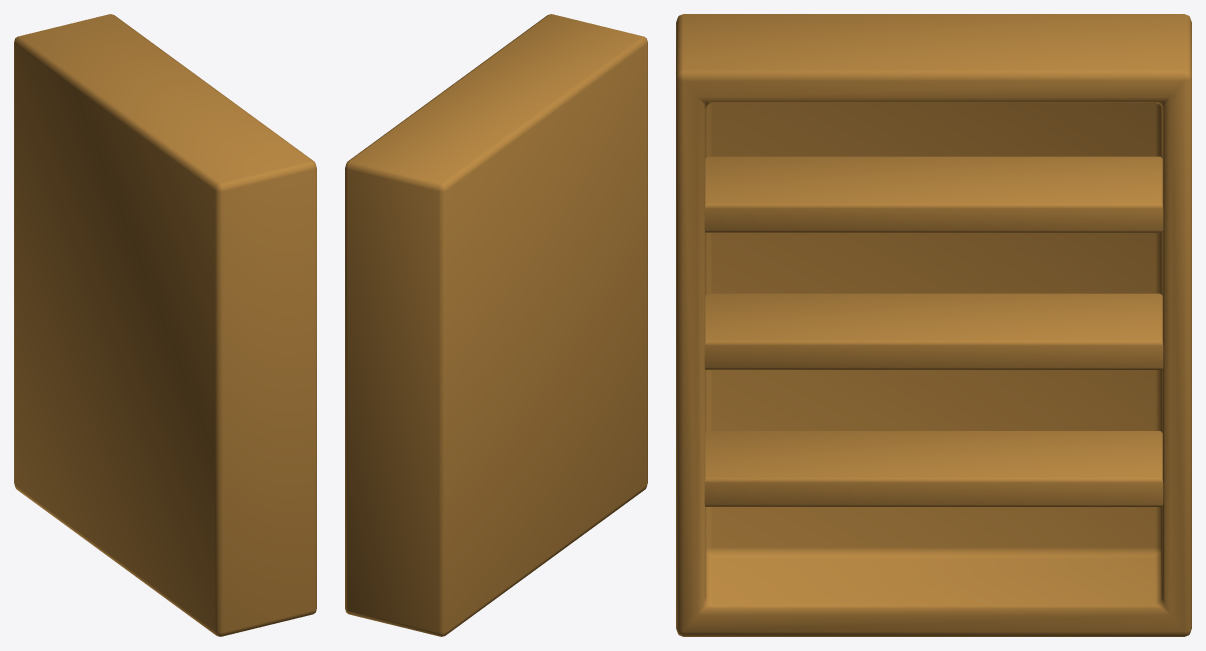
File: Bookcase4.fbx
3 renders of one model, left to right at view 1: azimuth 30°, elevation 25°; view 2: azimuth 150°, elevation 25°; view 3: azimuth 270°, elevation 25°, orthographic. The views are drawn at different scales.
Parts seen in each view (by area): view 1: Bookcase4; view 2: Bookcase4; view 3: Bookcase4.
Part boxes in pixels (box(x1,y1,x2,y2)): Bookcase4: box(14, 14, 316, 636); Bookcase4: box(345, 14, 647, 636); Bookcase4: box(676, 14, 1191, 636).
Bounding box in the file's own units: 0.7447 × 2.63 × 3.19.
